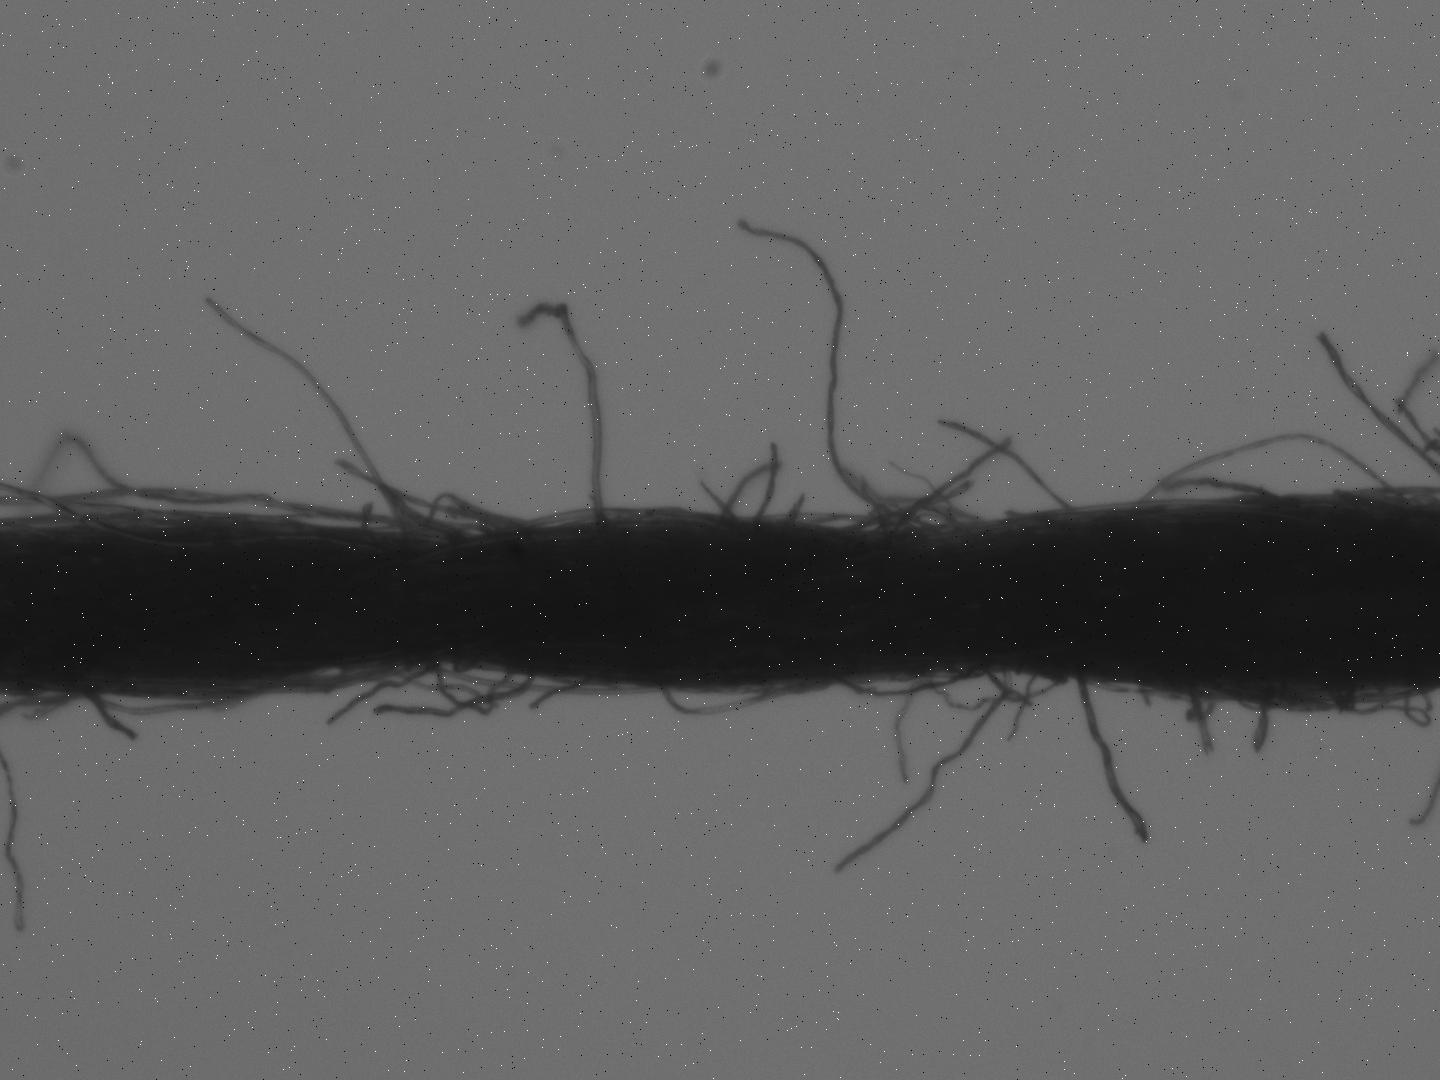loop_fiber: (1126, 430, 1416, 516), (828, 656, 989, 703), (417, 652, 522, 720), (415, 490, 527, 540), (662, 684, 805, 720), (1329, 690, 1421, 719)
protruding_fiber: (730, 214, 931, 533), (511, 301, 615, 540), (1068, 666, 1150, 851), (939, 413, 1076, 511)
